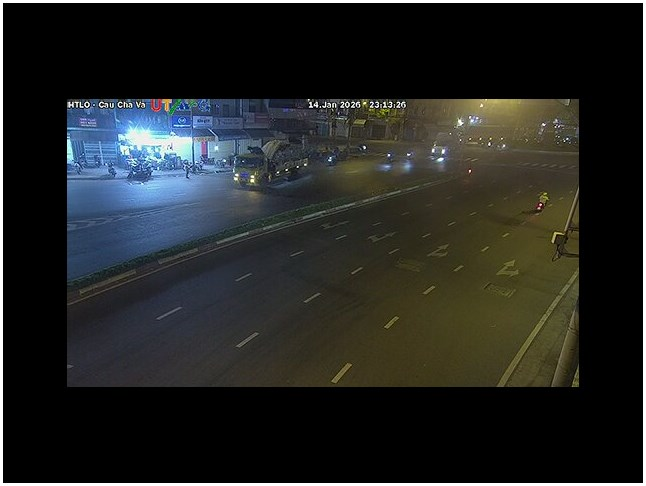car: (429, 145, 452, 170)
